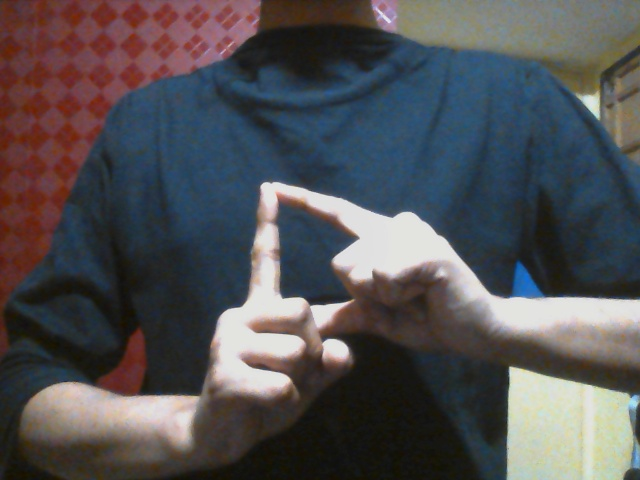D: (205, 181, 476, 466)
